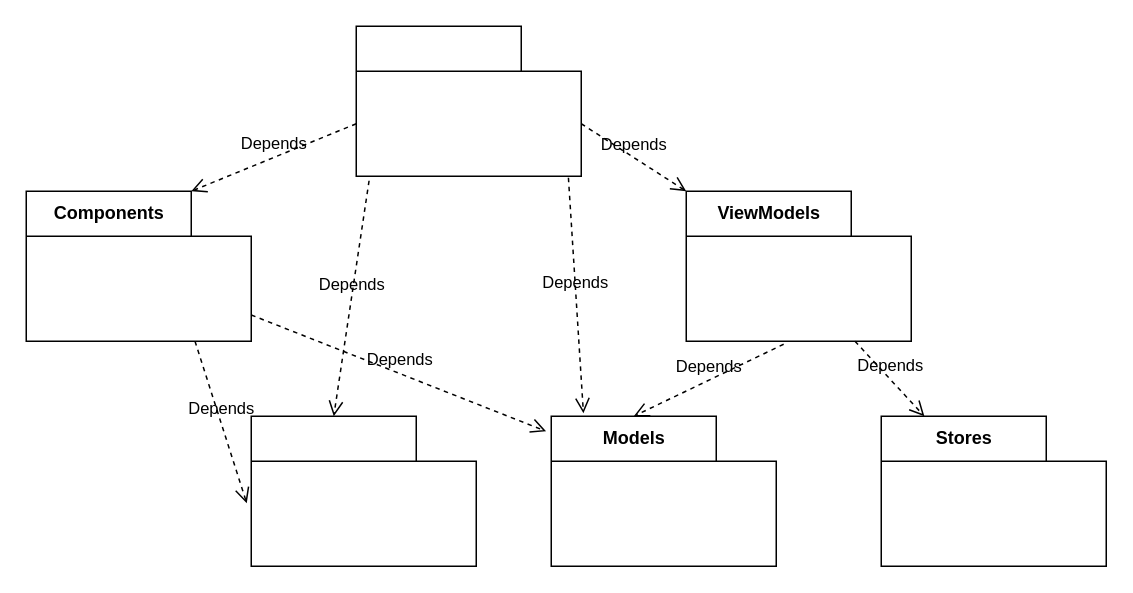
The diagram is 1133 pixels wide and 593 high, and some of its shapes have lost their labels. Each missing label, with the centre of its shape:
"Routes (Views)" belongs at (468,100).
"Utils" belongs at (363,490).
